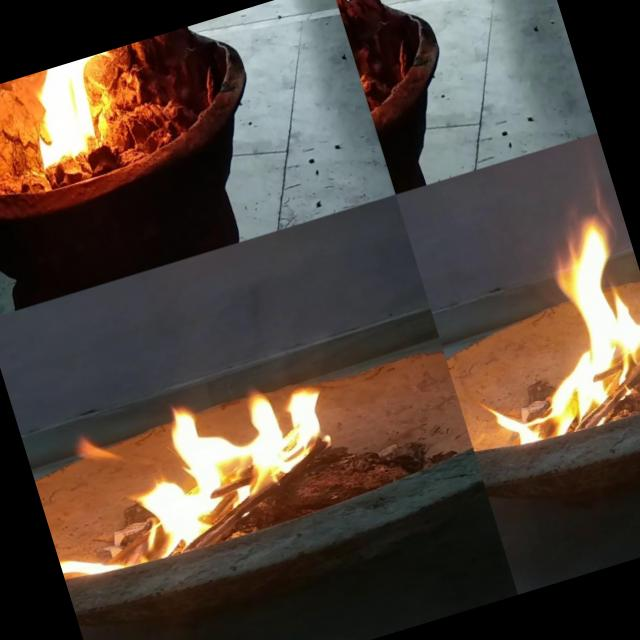fire: (25, 352, 383, 588), (438, 194, 640, 461), (10, 50, 138, 172)
